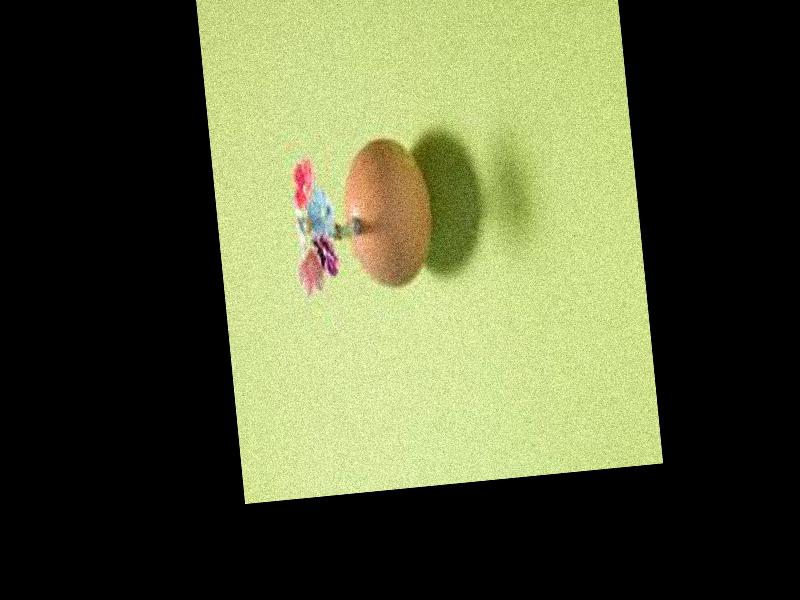Eggs: (339, 136, 438, 290)
